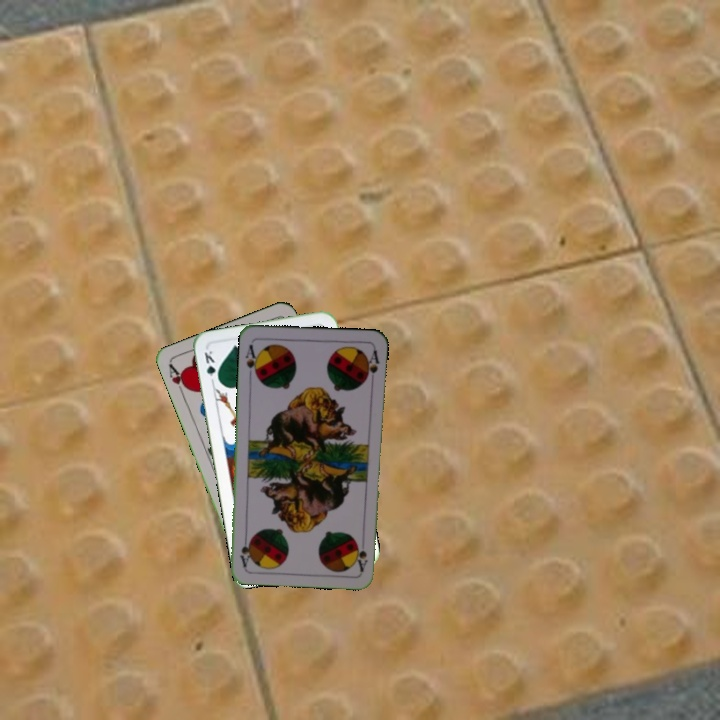GK: (200, 346, 221, 385)
HA: (165, 360, 192, 399)
SA: (242, 341, 262, 380), (353, 541, 370, 574)
